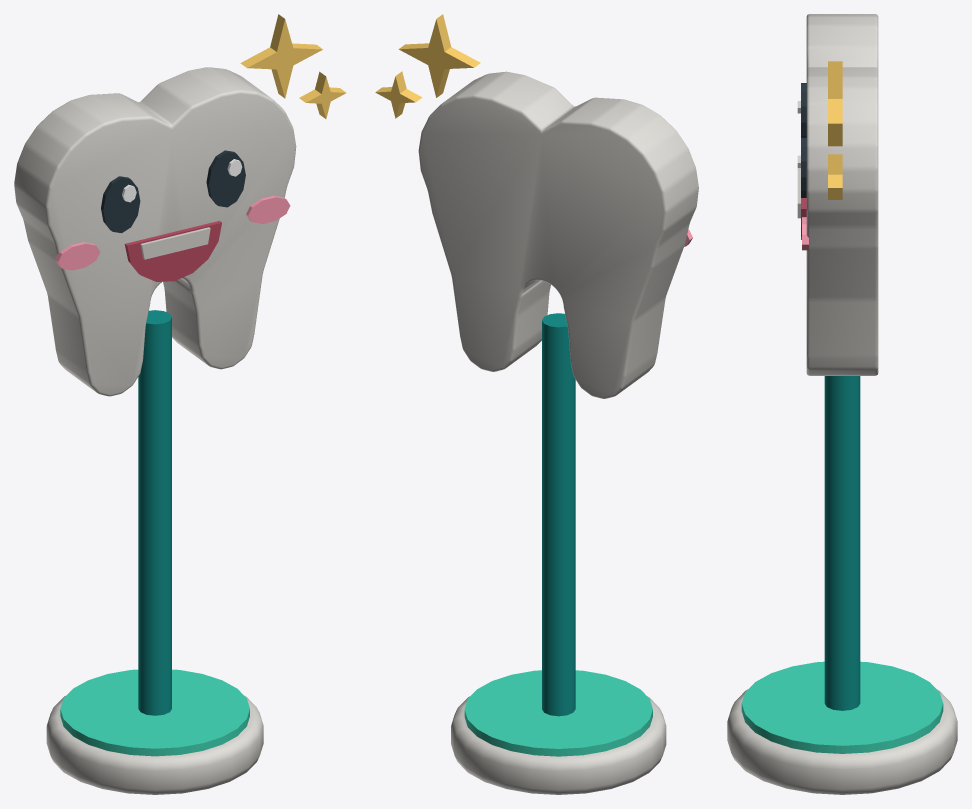
Rendered from tooth_sign.glb.
The picture shows the model from 3 angles, left to right: view 1: azimuth 30°, elevation 25°; view 2: azimuth 150°, elevation 25°; view 3: azimuth 270°, elevation 25°; orthographic projection. The views are drawn at different scales.
Visible parts, largest first — view 1: ToothSign; view 2: ToothSign; view 3: ToothSign.
Part boxes in pixels (box(x1,y1,x2,y2)): ToothSign: box(14, 14, 346, 794); ToothSign: box(375, 14, 698, 794); ToothSign: box(727, 14, 957, 794).
Bounding box in the file's own units: 1.06 × 2.31 × 0.64.
